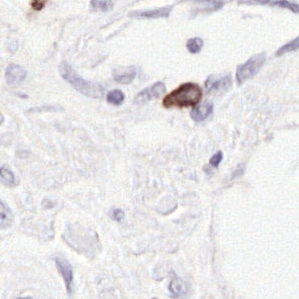Lymphocyte: (162, 81, 204, 108)
